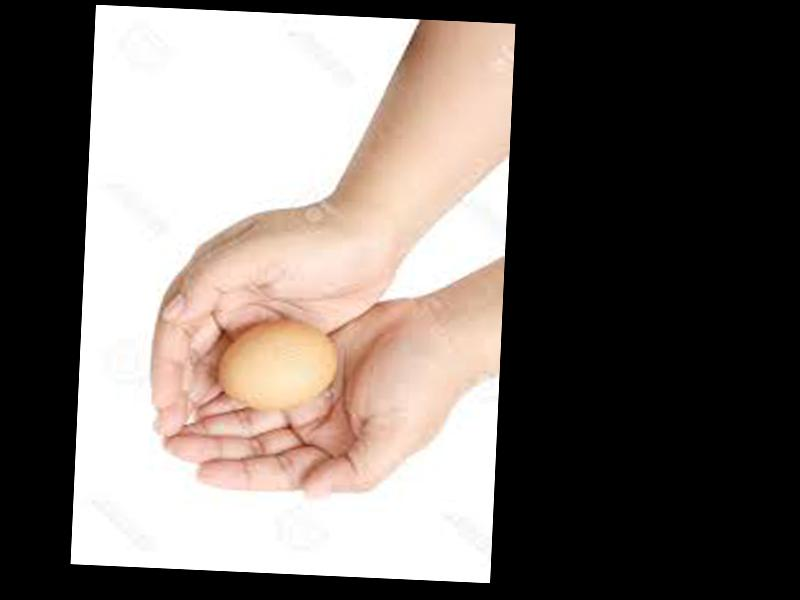Eggs: (220, 318, 336, 410)
